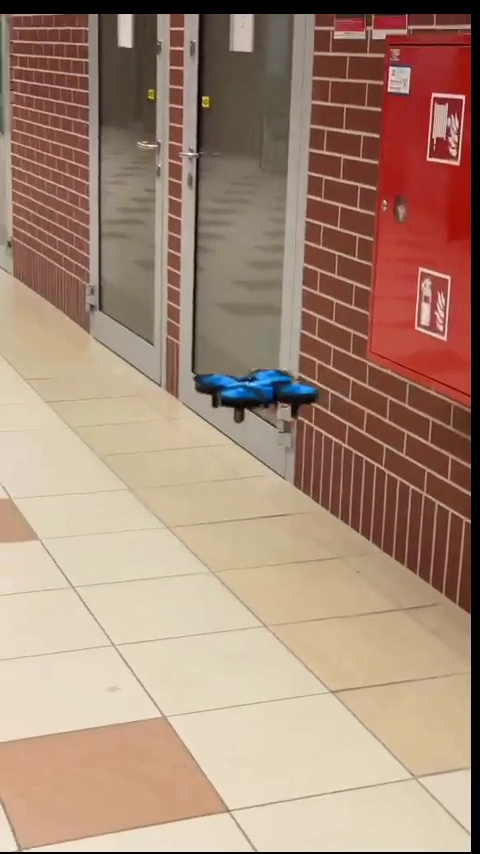drone: (193, 371, 323, 426)
